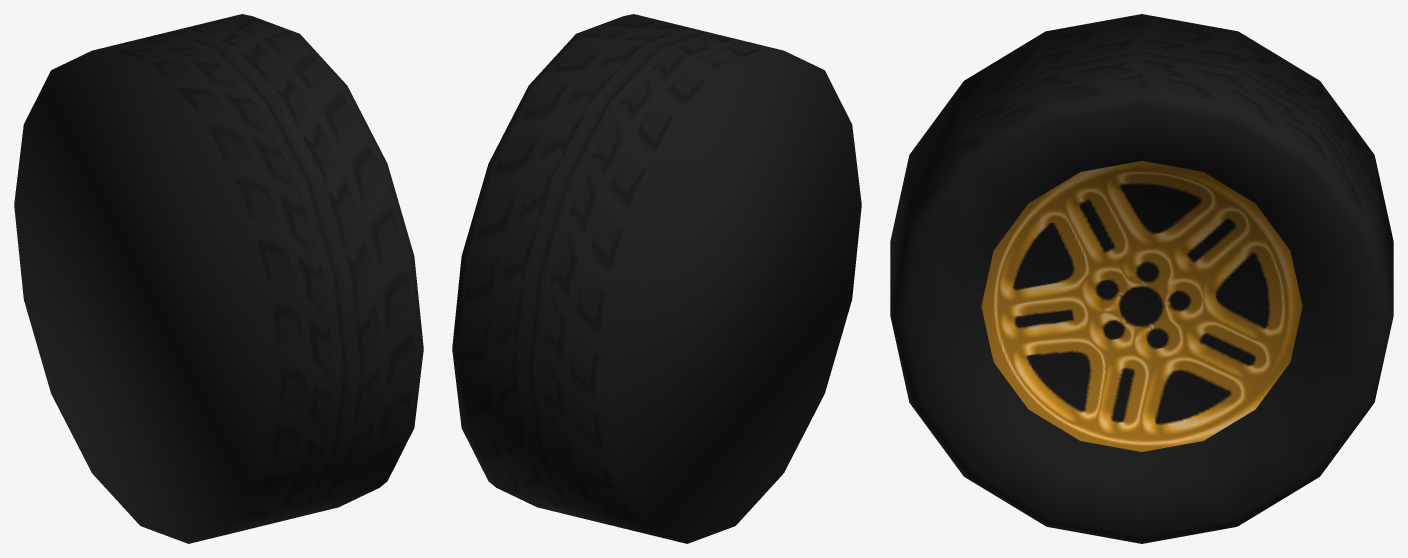
File: Tire3.fbx
The picture shows the model from 3 angles, left to right: view 1: azimuth 30°, elevation 25°; view 2: azimuth 150°, elevation 25°; view 3: azimuth 270°, elevation 25°; orthographic projection.
Parts seen in each view (by area): view 1: Circle.002; view 2: Circle.002; view 3: Circle.002.
Boxes of the visible parts, bbox=[...] form: Circle.002: bbox=[14, 14, 423, 543]; Circle.002: bbox=[452, 14, 861, 543]; Circle.002: bbox=[890, 14, 1393, 543].
Size of the model in its own units: 23.5 by 62.84 by 62.84.
